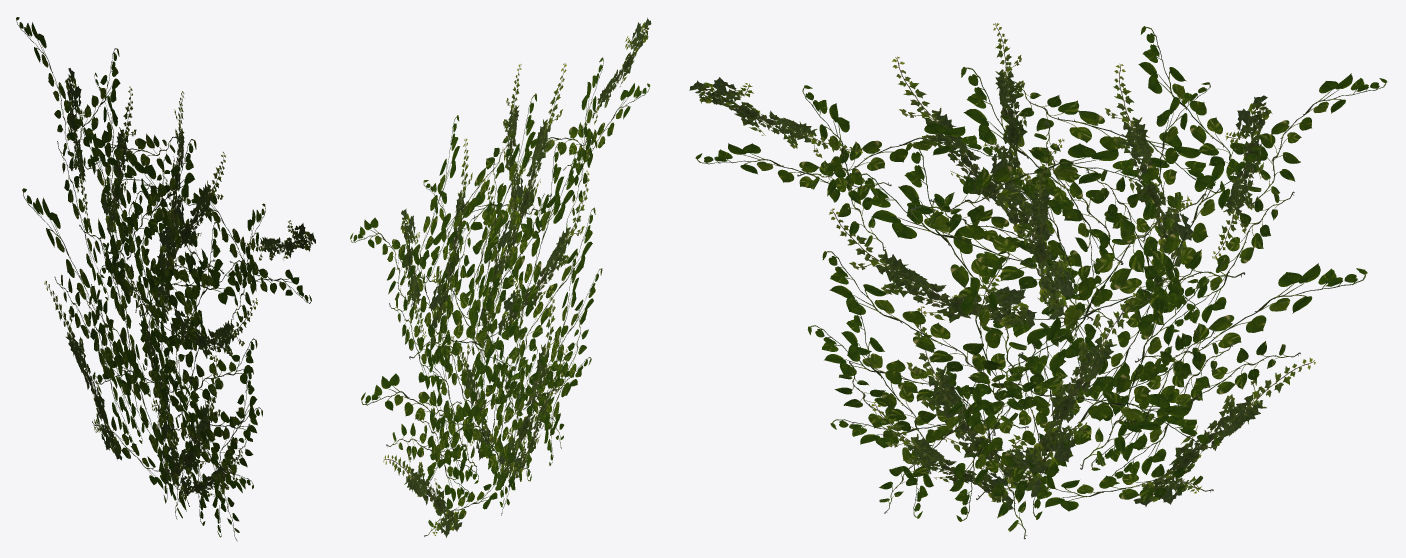
File: SM_Prop_Ivy_Flat_Big.fbx
The picture shows the model from 3 angles, left to right: view 1: azimuth 30°, elevation 25°; view 2: azimuth 150°, elevation 25°; view 3: azimuth 270°, elevation 25°; orthographic projection. The views are drawn at different scales.
Parts seen in each view (by area): view 1: SM_Prop_Ivy_Flat_Big_LOD0; view 2: SM_Prop_Ivy_Flat_Big_LOD0; view 3: SM_Prop_Ivy_Flat_Big_LOD0.
Part boxes in pixels (x1,y1,x2,y2): SM_Prop_Ivy_Flat_Big_LOD0: [16, 17, 315, 541]; SM_Prop_Ivy_Flat_Big_LOD0: [350, 17, 651, 537]; SM_Prop_Ivy_Flat_Big_LOD0: [689, 23, 1387, 539].
Bounding box in the file's own units: 9.63 × 310 × 254.
Materials: 1 (1 with a texture image).
